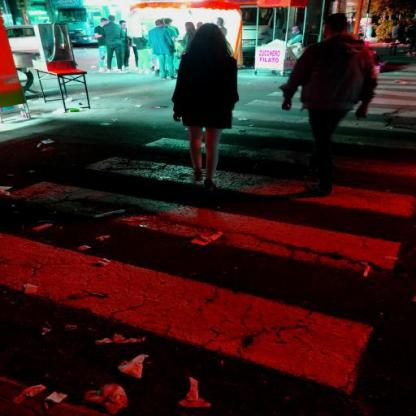crosswalk: (4, 149, 416, 282)
